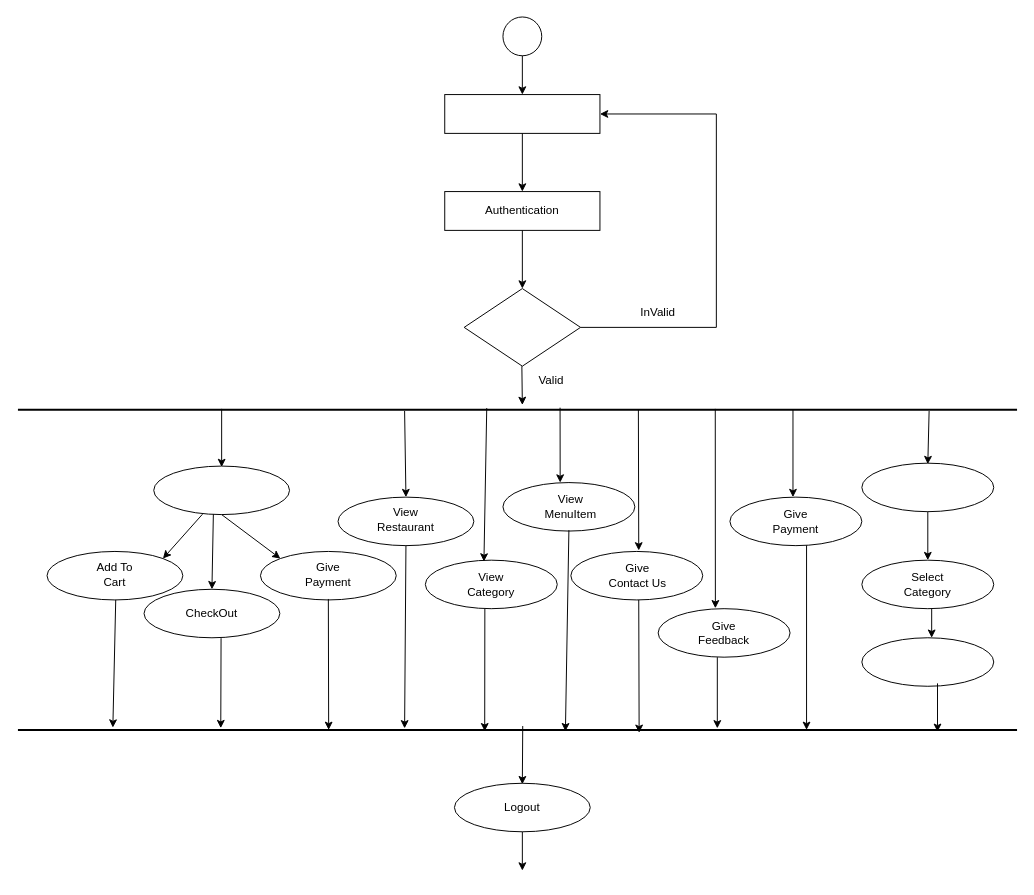
This 1034x895 diagram has some shape labels left out. Here are the shapes that lost their labels. From the top down, the centre of each, then its label:
(x=522, y=113): Login
(x=522, y=327): Check
(x=221, y=490): Order
(x=927, y=487): Select Restaurant
(x=927, y=661): Select Category wise MenuItem
